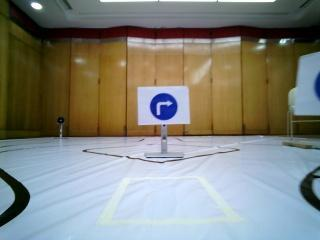right: (140, 85, 189, 124)
